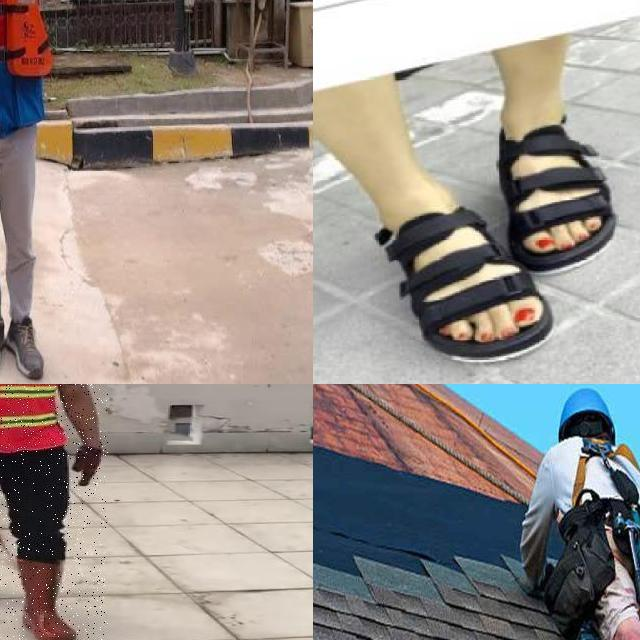Harness: (553, 438, 640, 640)
Sandals: (371, 197, 558, 370), (489, 116, 622, 285)
boots: (13, 554, 83, 640), (2, 312, 53, 382), (0, 306, 9, 380)
person: (0, 0, 202, 384), (0, 384, 108, 640)
vest: (0, 0, 64, 94), (0, 384, 63, 451)
